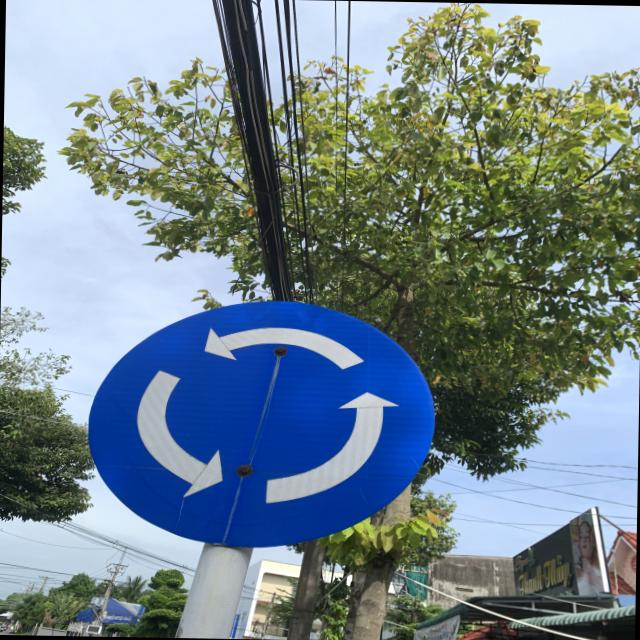Xe_Bus: (81, 291, 442, 553)
